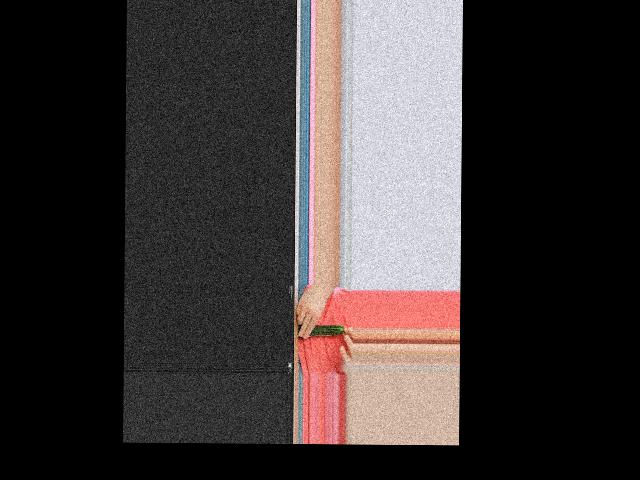cucumber: (308, 324, 344, 336)
